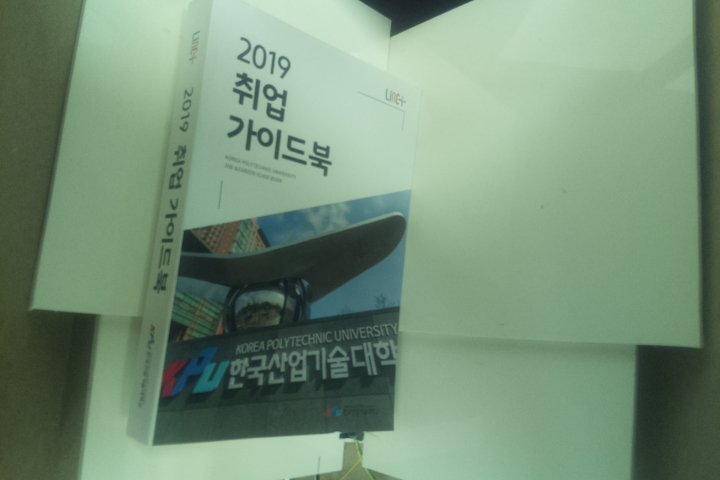book: (123, 1, 423, 450)
